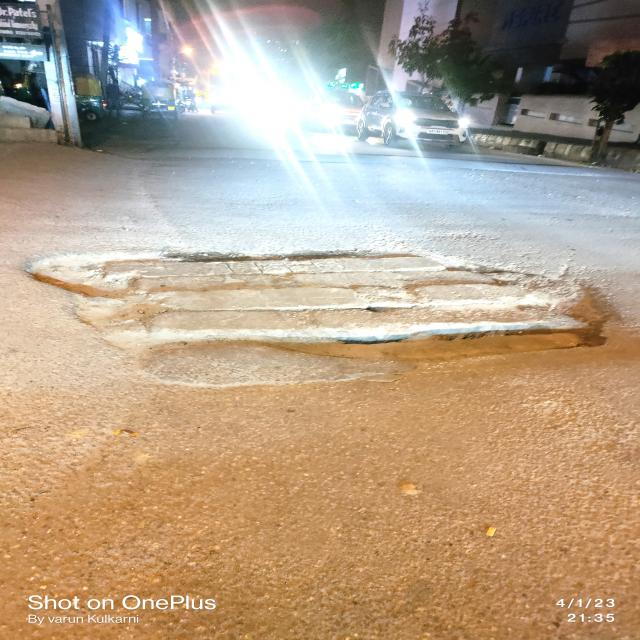potholes: (64, 242, 592, 378)
